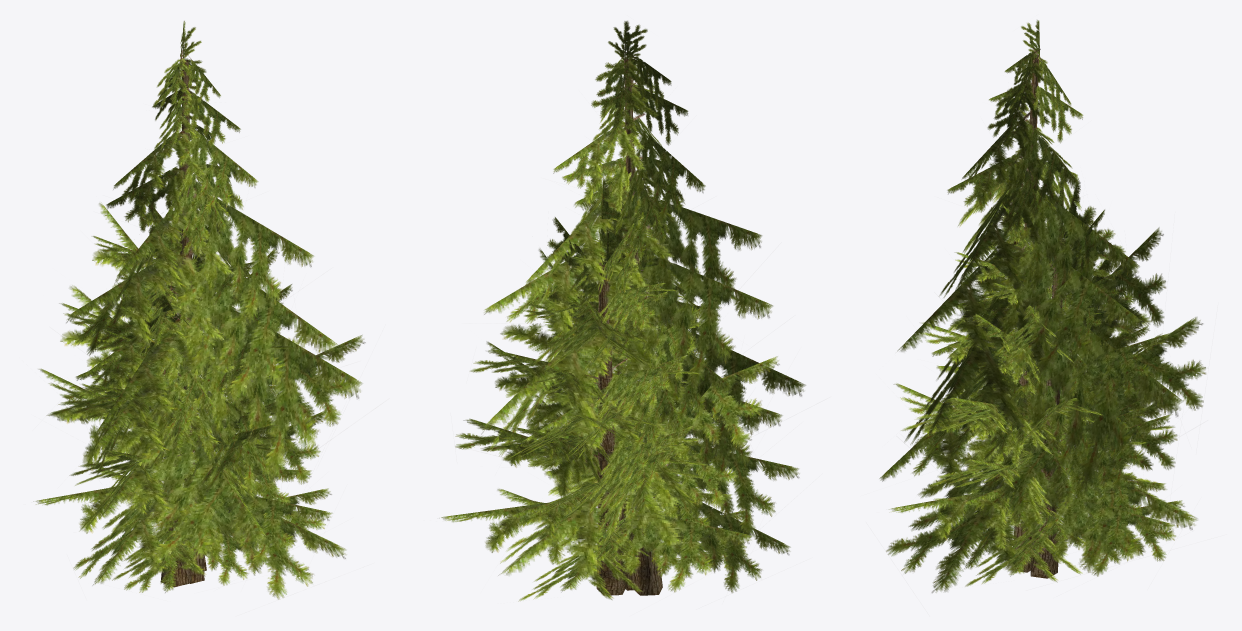
File: pine_trees_pack__ps1_low_poly.glb
The picture shows the model from 3 angles, left to right: view 1: azimuth 30°, elevation 25°; view 2: azimuth 150°, elevation 25°; view 3: azimuth 270°, elevation 25°; orthographic projection. The views are drawn at different scales.
Parts seen in each view (by area): view 1: pine_b, pine_c, pine_a; view 2: pine_a, pine_b, pine_c; view 3: pine_b, pine_a, pine_c.
Boxes of the visible parts, left/top/right/bottom form: pine_b: left=66, top=21, right=362, bottom=583; pine_c: left=52, top=237, right=345, bottom=599; pine_a: left=33, top=158, right=365, bottom=580; pine_a: left=441, top=177, right=779, bottom=601; pine_b: left=481, top=21, right=805, bottom=590; pine_c: left=498, top=241, right=799, bottom=595; pine_b: left=897, top=20, right=1182, bottom=572; pine_a: left=889, top=169, right=1205, bottom=586; pine_c: left=879, top=274, right=1197, bottom=592.
Size of the model in its own units: 10.4 by 17.92 by 10.78.
Materials: 1 (1 with a texture image).
